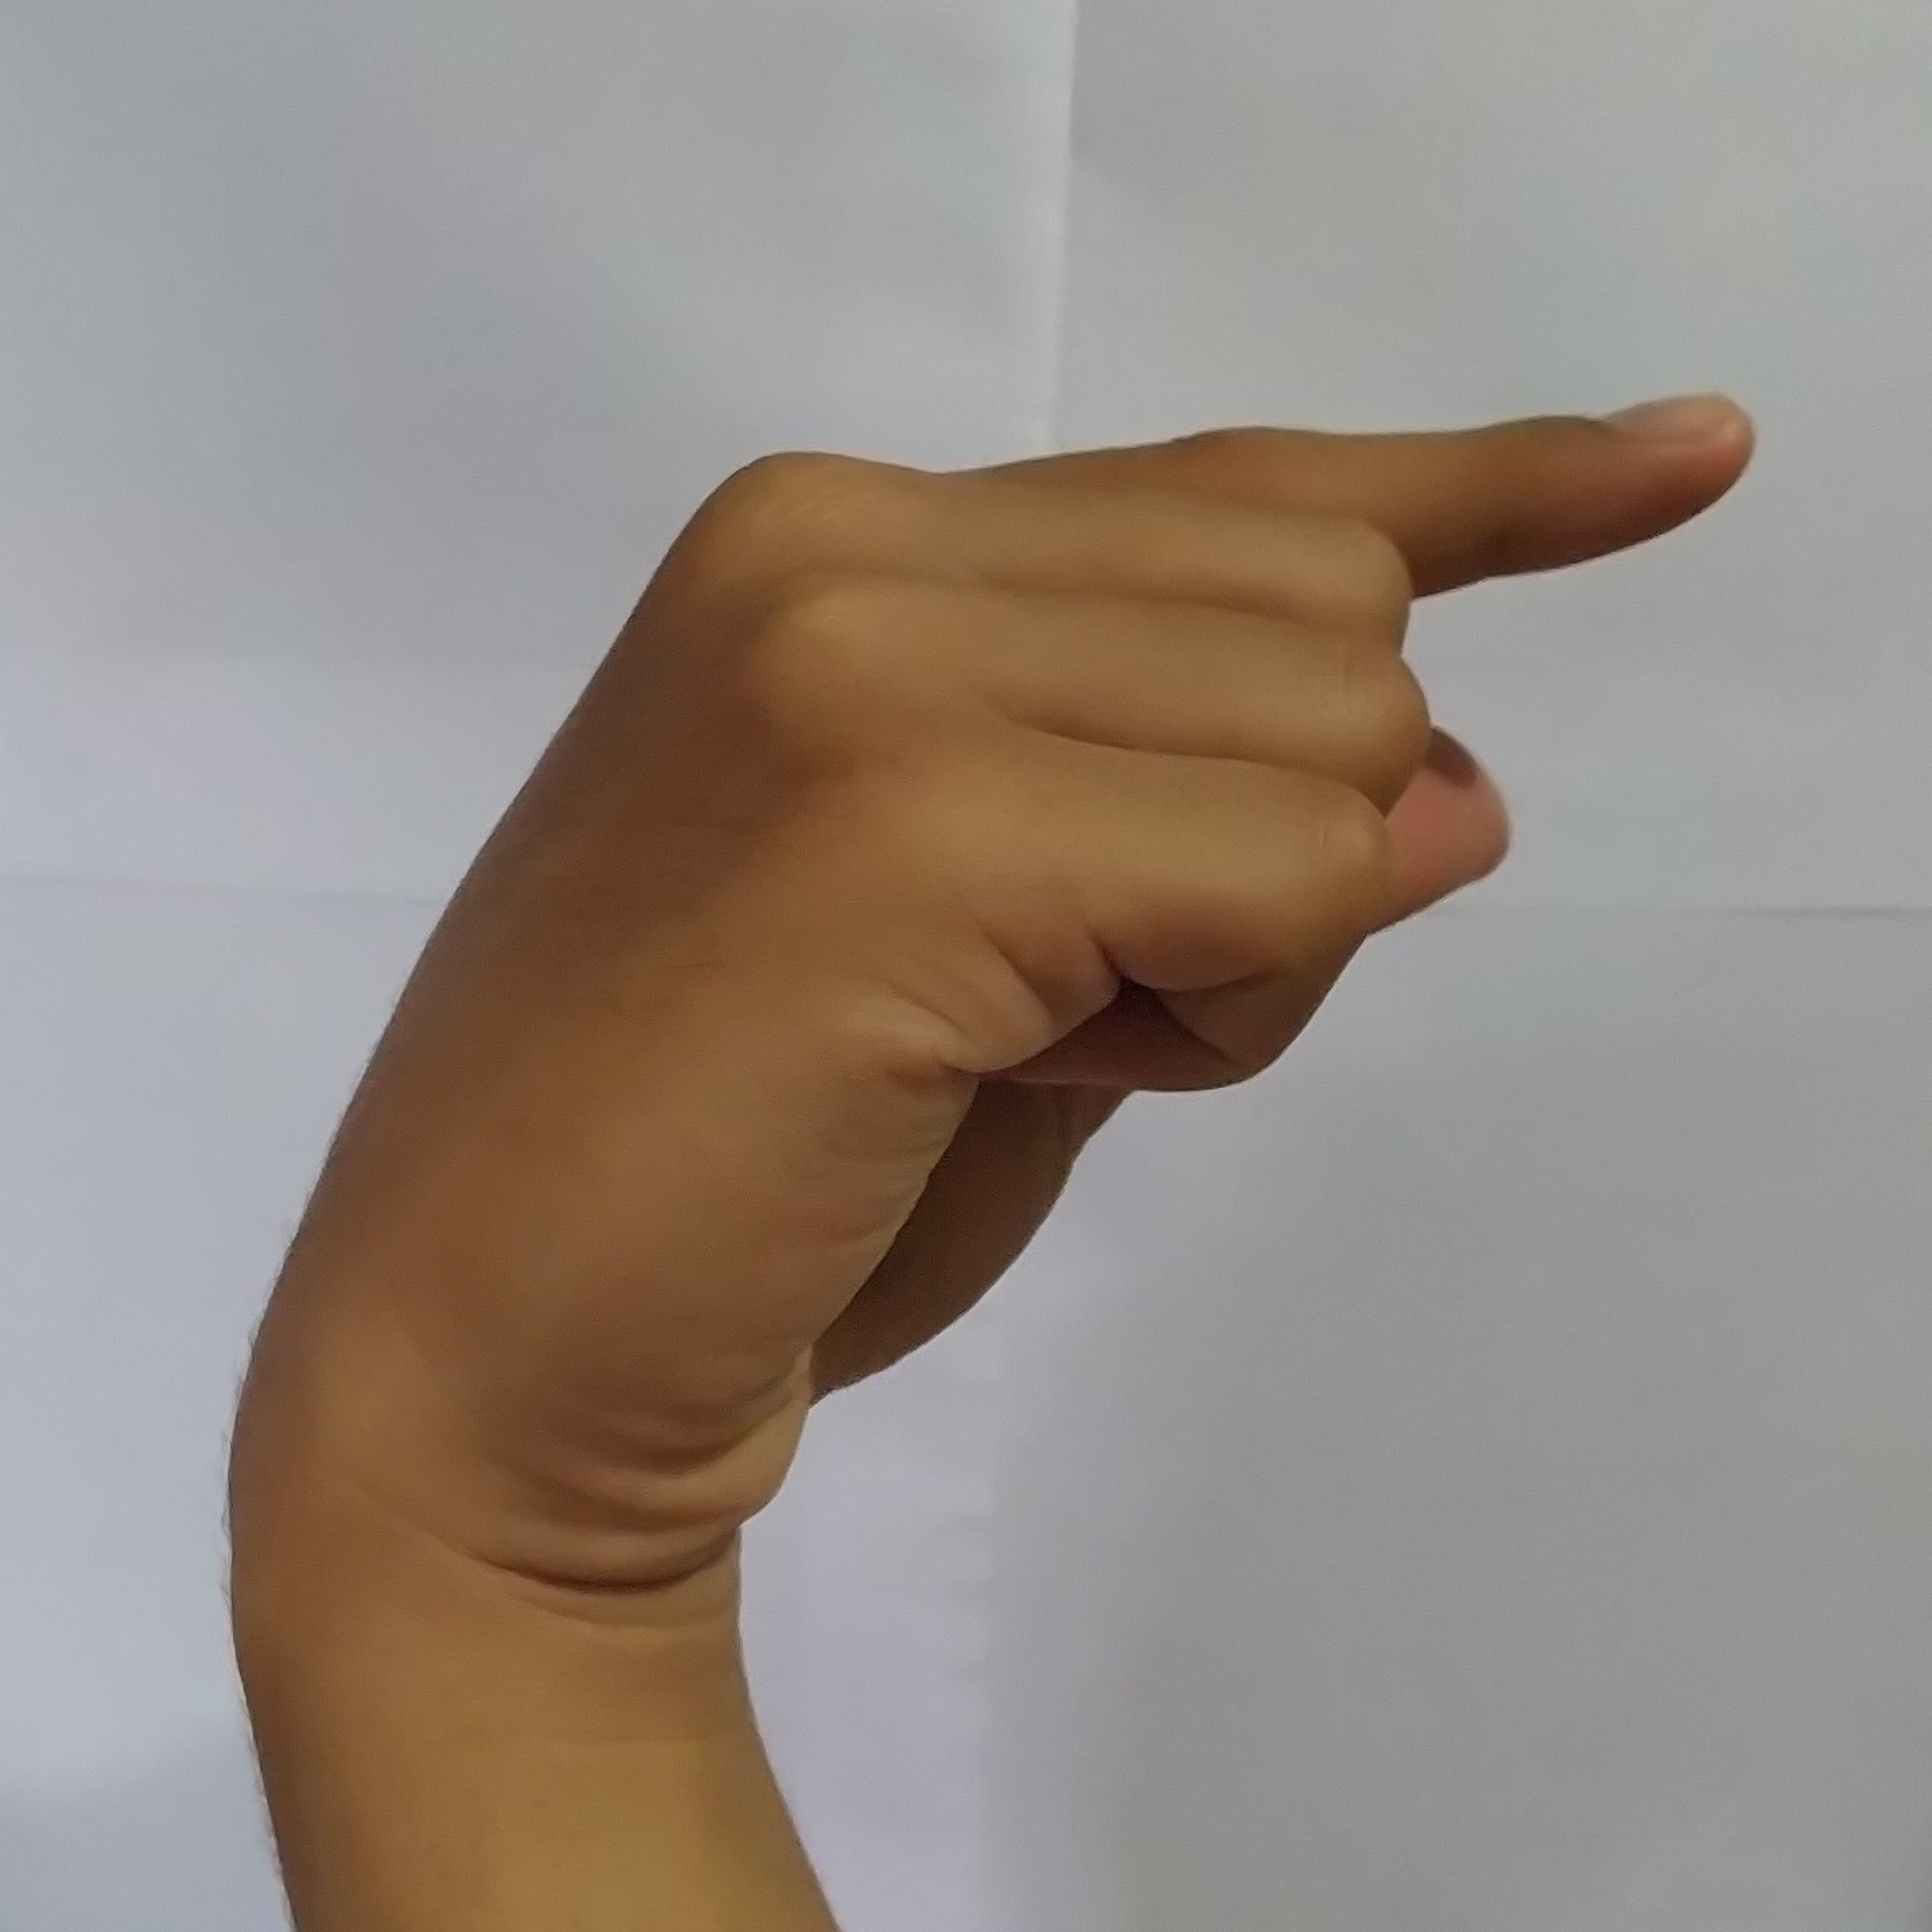G: (225, 370, 1782, 1506)
